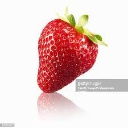strawberry: (36, 11, 103, 94)
